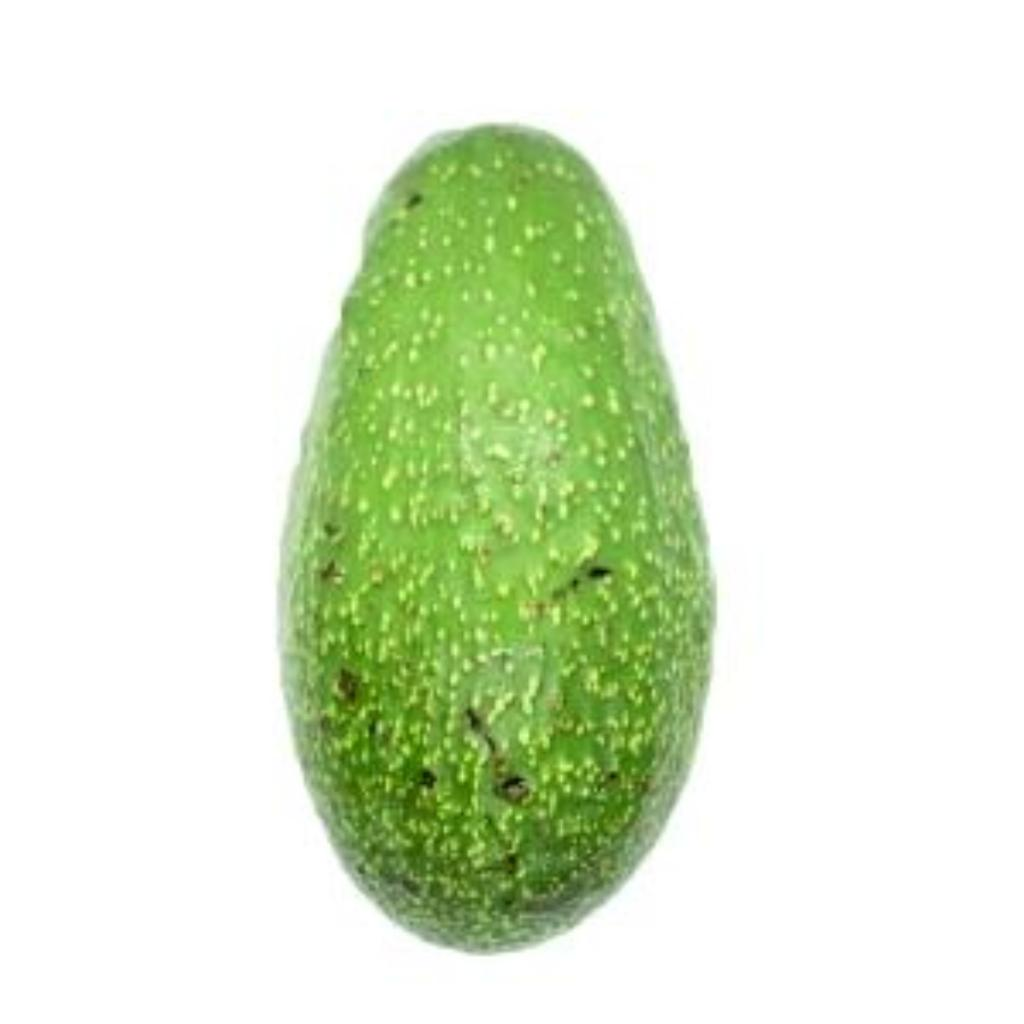cercospora: (258, 107, 746, 974)
